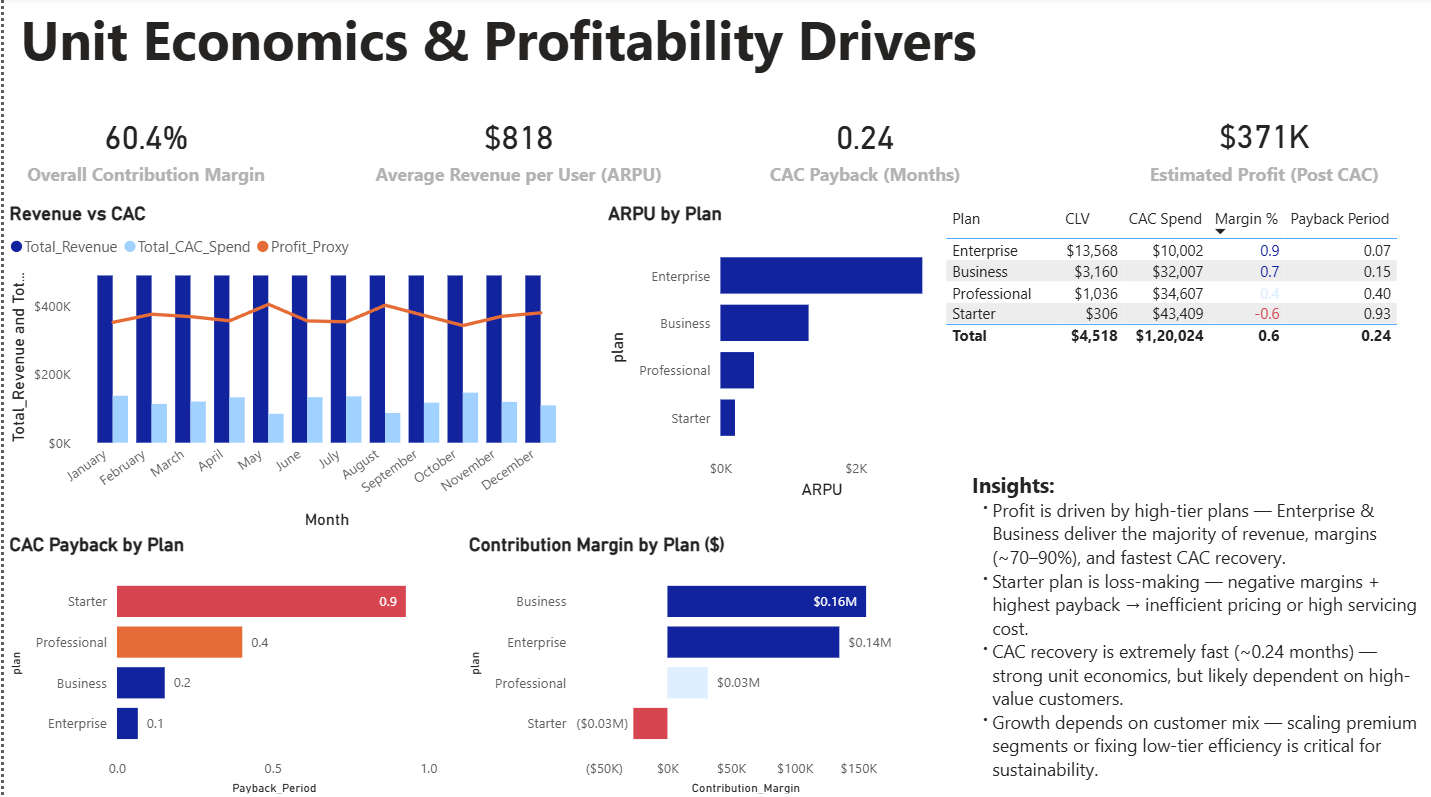

The page's visual inventory and layout, read from the dashboard file:
{"tool":"powerbi","page":{"name":"Unit Economics","canvas":[1280,720],"ordinal":3},"visuals":[{"type":"textbox","box":[9.7,0,916.3,83.7],"z":0},{"type":"card","fields":{"Values":["Measures (2).Contribution_Margin_%"]},"box":[0,85.3,254.4,99.8],"z":1000},{"type":"card","fields":{"Values":["Measures (2).Payback_Period"]},"box":[631.8,85.3,280.2,99.8],"z":2000},{"type":"card","fields":{"Values":["Measures (2).Profit_Proxy"]},"box":[978.9,83.7,301.1,101.4],"z":3000},{"type":"card","fields":{"Values":["Measures (2).ARPU"]},"box":[322.1,85.3,278.2,99.8],"z":4000},{"type":"clusteredBarChart","title":"Contribution Margin by Plan ($)","fields":{"Y":["Measures (2).Contribution_Margin"],"Category":["cac.plan"]},"box":[411.8,481.9,427.2,238.1],"z":5000},{"type":"barChart","title":"ARPU by Plan","fields":{"Category":["cac.plan"],"Y":["Measures (2).ARPU"]},"box":[536.5,184.9,302.6,270.4],"z":6000},{"type":"lineClusteredColumnComboChart","title":"Revenue vs CAC","fields":{"Category":["monthly_revenue.month.Variation.Date Hierarchy.Month"],"Y":["Measures (2).Total_Revenue","Measures (2).Total_CAC_Spend"],"Y2":["Measures (2).Profit_Proxy"]},"box":[0,184.9,514.1,297],"z":7000},{"type":"barChart","title":"CAC Payback by Plan","fields":{"Category":["cac.plan"],"Y":["Measures (2).Payback_Period"]},"box":[0,481.9,396.4,238.1],"z":8000},{"type":"tableEx","fields":{"Values":["cac.plan","Avg(cac.clv)","Measures (2).Total_CAC_Spend","Measures (2).Contribution_Margin_%","Measures (2).Payback_Period"]},"box":[839.1,184.9,441.2,190.5],"z":9000},{"type":"textbox","box":[862.9,420.2,417.4,299.8],"z":9001}]}

Visuals, with their boxes in screenshot pixels (x1, y1, x2, y2), scaled from the page's 1280x720 canvas onto the 1431x797 screenshot:
textbox: region(11, 0, 1035, 93)
card - Measures (2).Contribution_Margin_%: region(0, 94, 284, 205)
card - Measures (2).Payback_Period: region(706, 94, 1020, 205)
card - Measures (2).Profit_Proxy: region(1094, 93, 1430, 205)
card - Measures (2).ARPU: region(360, 94, 671, 205)
"Contribution Margin by Plan ($)" clusteredBarChart: region(460, 533, 938, 796)
"ARPU by Plan" barChart: region(600, 205, 938, 504)
"Revenue vs CAC" lineClusteredColumnComboChart: region(0, 205, 575, 533)
"CAC Payback by Plan" barChart: region(0, 533, 443, 796)
tableEx - cac.plan x Avg(cac.clv): region(938, 205, 1430, 416)
textbox: region(965, 465, 1430, 796)
